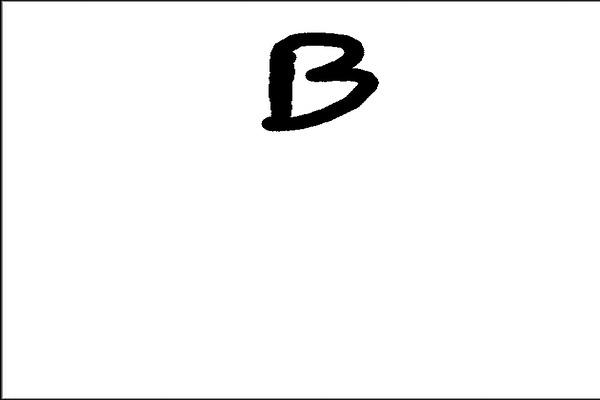B: (248, 23, 386, 136)
